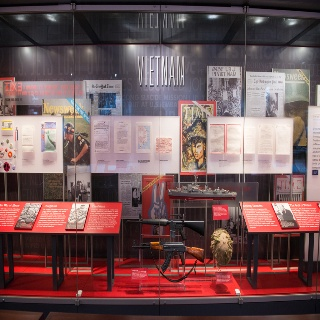rifle: (131, 240, 207, 273), (124, 215, 206, 237)
